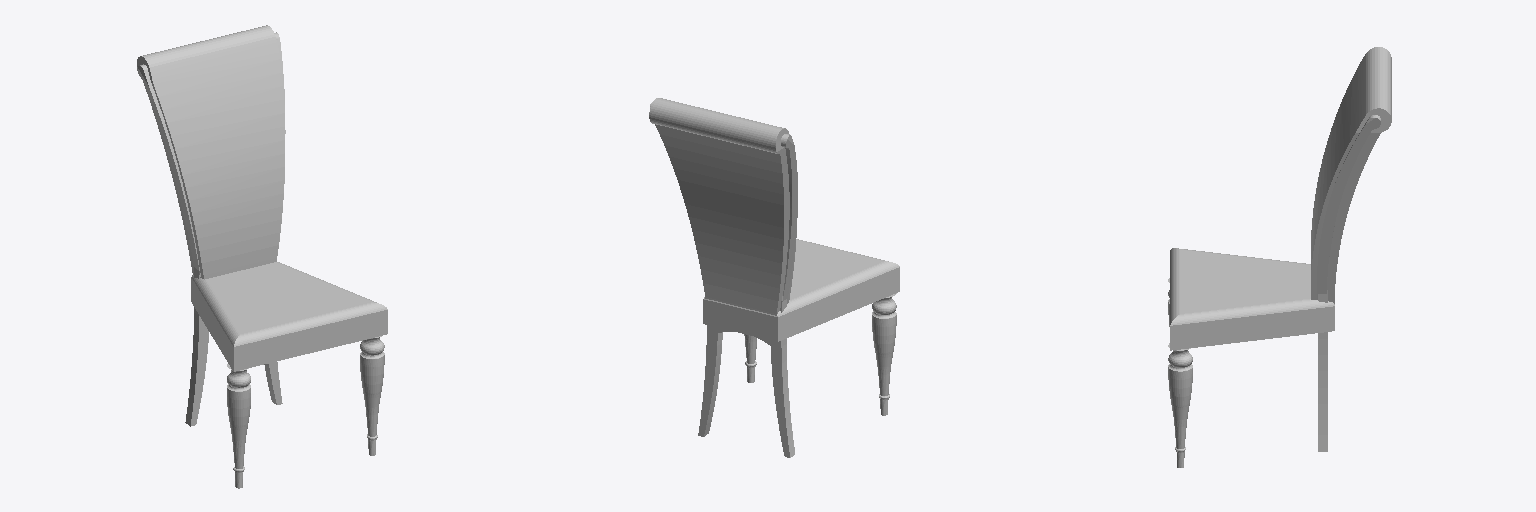
3 renders of one model, left to right at view 1: azimuth 30°, elevation 25°; view 2: azimuth 150°, elevation 25°; view 3: azimuth 270°, elevation 25°, orthographic.
Visible parts, largest first — view 1: 3DSMesh_5_5, 3DSMesh_2_2, 3DSMesh_1_1, 3DSMesh_3_3, 3DSMesh_6_6, 3DSMesh_8_8; view 2: 3DSMesh_5_5, 3DSMesh_2_2, 3DSMesh_1_1, 3DSMesh_8_8, 3DSMesh_7_7, 3DSMesh_6_6; view 3: 3DSMesh_2_2, 3DSMesh_5_5, 3DSMesh_6_6, 3DSMesh_3_3, 3DSMesh_7_7.
Part boxes in pixels (left/top/right/bottom): 3DSMesh_5_5: left=137, top=25, right=284, bottom=279; 3DSMesh_2_2: left=191, top=262, right=387, bottom=371; 3DSMesh_1_1: left=227, top=364, right=250, bottom=488; 3DSMesh_3_3: left=360, top=336, right=384, bottom=455; 3DSMesh_6_6: left=137, top=32, right=285, bottom=277; 3DSMesh_8_8: left=185, top=267, right=208, bottom=426; 3DSMesh_5_5: left=649, top=98, right=796, bottom=315; 3DSMesh_2_2: left=703, top=239, right=899, bottom=341; 3DSMesh_1_1: left=872, top=293, right=896, bottom=415; 3DSMesh_8_8: left=770, top=296, right=794, bottom=457; 3DSMesh_7_7: left=698, top=325, right=722, bottom=436; 3DSMesh_6_6: left=650, top=102, right=797, bottom=301; 3DSMesh_2_2: left=1170, top=248, right=1334, bottom=350; 3DSMesh_5_5: left=1311, top=47, right=1391, bottom=303; 3DSMesh_6_6: left=1317, top=115, right=1381, bottom=299; 3DSMesh_3_3: left=1168, top=343, right=1192, bottom=467; 3DSMesh_7_7: left=1318, top=290, right=1327, bottom=451.
Size of the model in its own units: 520 by 1146 by 651.